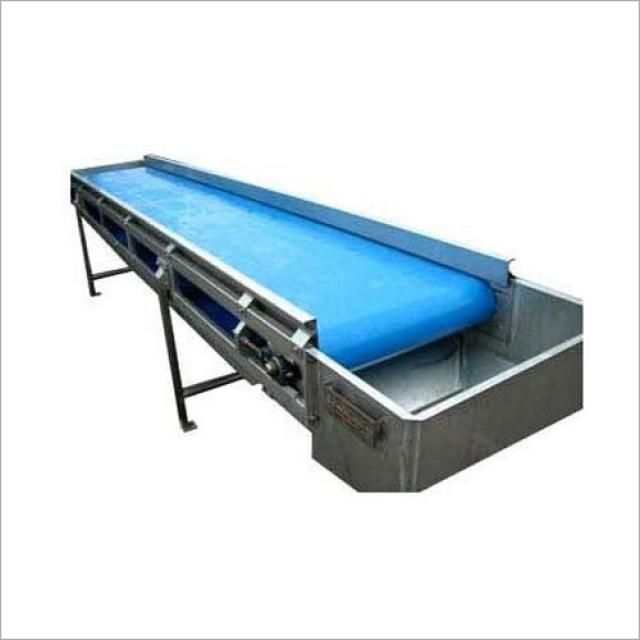conveyor: (33, 140, 590, 523)
